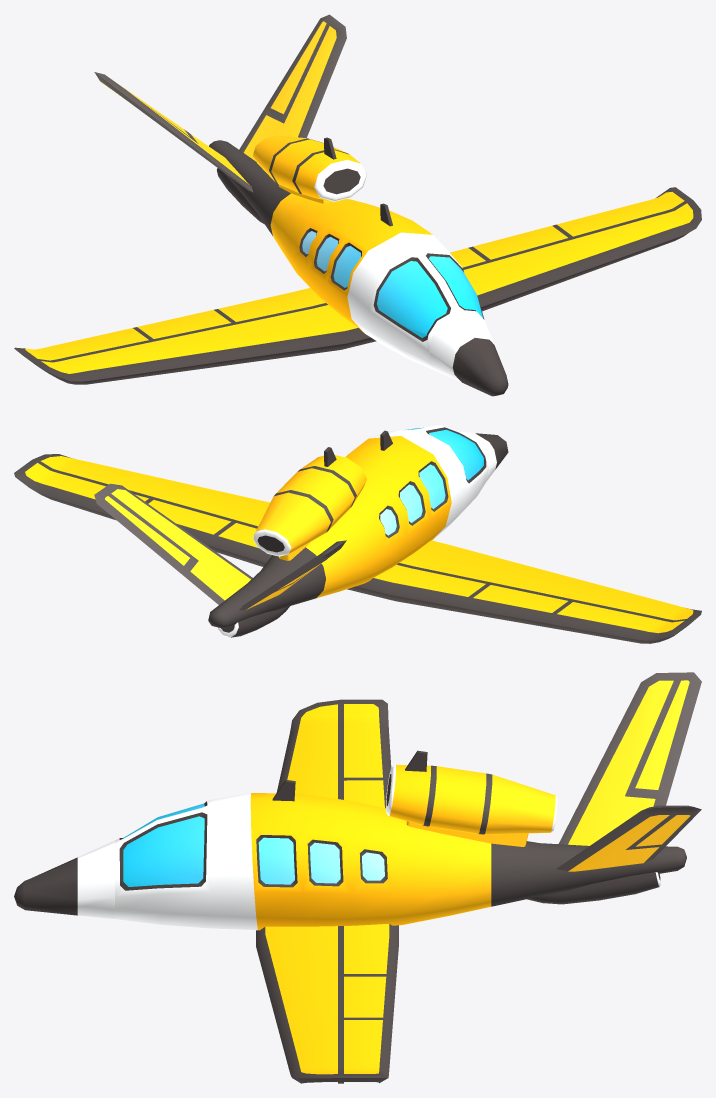
The picture shows the model from 3 angles, top to bottom: view 1: azimuth 30°, elevation 25°; view 2: azimuth 150°, elevation 25°; view 3: azimuth 270°, elevation 25°; orthographic projection. The views are drawn at different scales.
Visible parts, largest first — view 1: Plane_03; view 2: Plane_03; view 3: Plane_03.
Part boxes in pixels (x1,y1,x2,y2): Plane_03: (14,14,701,396); Plane_03: (14,425,701,643); Plane_03: (14,672,701,1083).
Bounding box in the file's own units: 9.19 × 2.12 × 7.06.
1 material, 1 textured.
